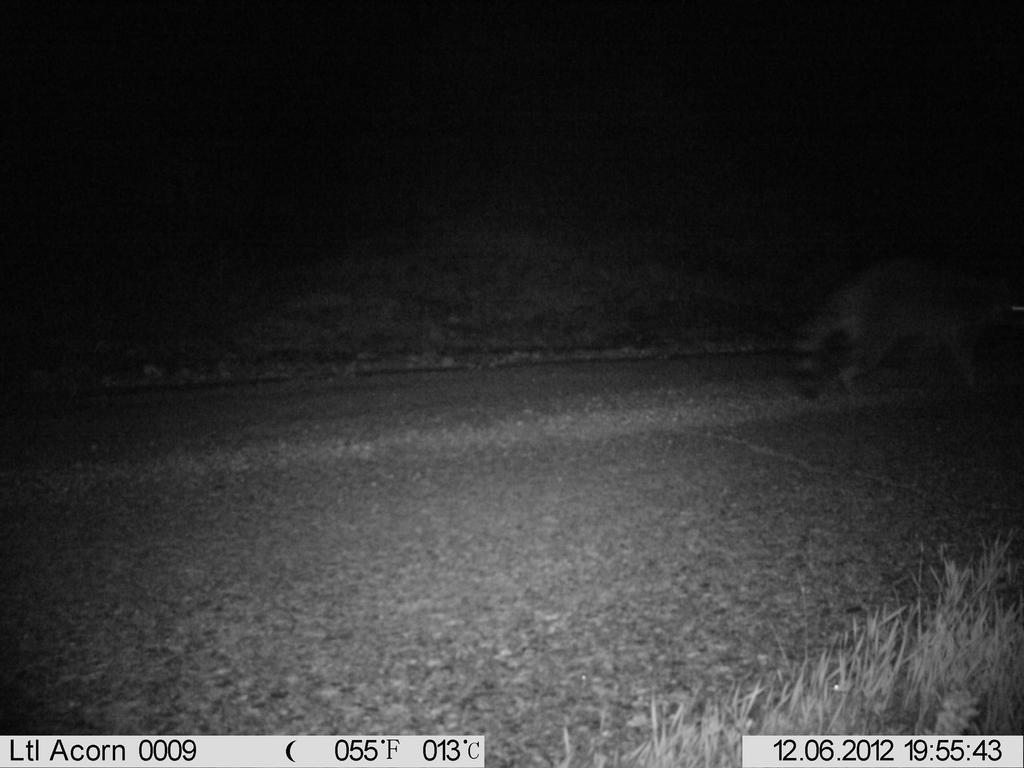raccoon: (776, 249, 1023, 421)
